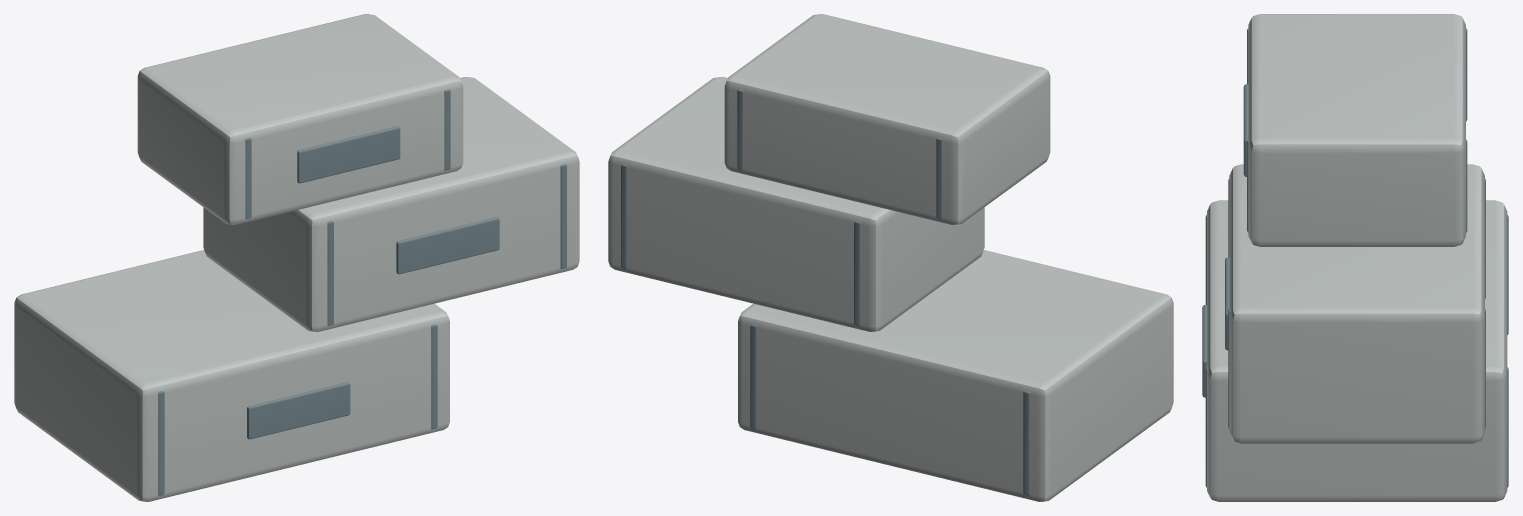
Rendered from apple-boxes.glb.
3 views of the same model, side by side, from view 1: azimuth 30°, elevation 25°; view 2: azimuth 150°, elevation 25°; view 3: azimuth 270°, elevation 25° (orthographic). The views are drawn at different scales.
Parts seen in each view (by area): view 1: apple_box_0, apple_box_2, apple_box_1, hand_hole_2, hand_hole_0, hand_hole_1, end_grain_0.001, end_grain_1, end_grain_1.001, end_grain_0; view 2: apple_box_0, apple_box_2, apple_box_1, end_grain_0.001, end_grain_1, end_grain_1.001, end_grain_0; view 3: apple_box_1, apple_box_2, apple_box_0, end_grain_0.001, hand_hole_2, hand_hole_0, end_grain_0, hand_hole_1, end_grain_2.001, end_grain_1.001.
Boxes of the visible parts, x1,y1,x2,y2 form: apple_box_0: (14,250,449,501); apple_box_2: (137,14,463,224); apple_box_1: (203,77,579,331); hand_hole_2: (297,126,400,183); hand_hole_0: (247,382,350,439); hand_hole_1: (396,217,499,274); end_grain_0.001: (431,324,437,429); end_grain_1: (327,221,333,325); end_grain_1.001: (560,164,566,268); end_grain_0: (158,391,164,495); apple_box_0: (738,250,1173,501); apple_box_2: (724,14,1050,224); apple_box_1: (608,77,984,331); end_grain_0.001: (750,324,756,429); end_grain_1: (854,221,860,325); end_grain_1.001: (621,164,627,268); end_grain_0: (1023,391,1029,495); apple_box_1: (1229,164,1484,443); apple_box_2: (1248,14,1465,246); apple_box_0: (1207,200,1507,501); end_grain_0.001: (1205,367,1508,487); hand_hole_2: (1243,84,1248,176); hand_hole_0: (1202,305,1206,397); end_grain_0: (1205,214,1508,334); hand_hole_1: (1225,257,1229,350); end_grain_2.001: (1247,139,1467,232); end_grain_1.001: (1228,308,1485,428).
Bounding box in the file's own units: 0.795 × 0.56 × 0.4075.
